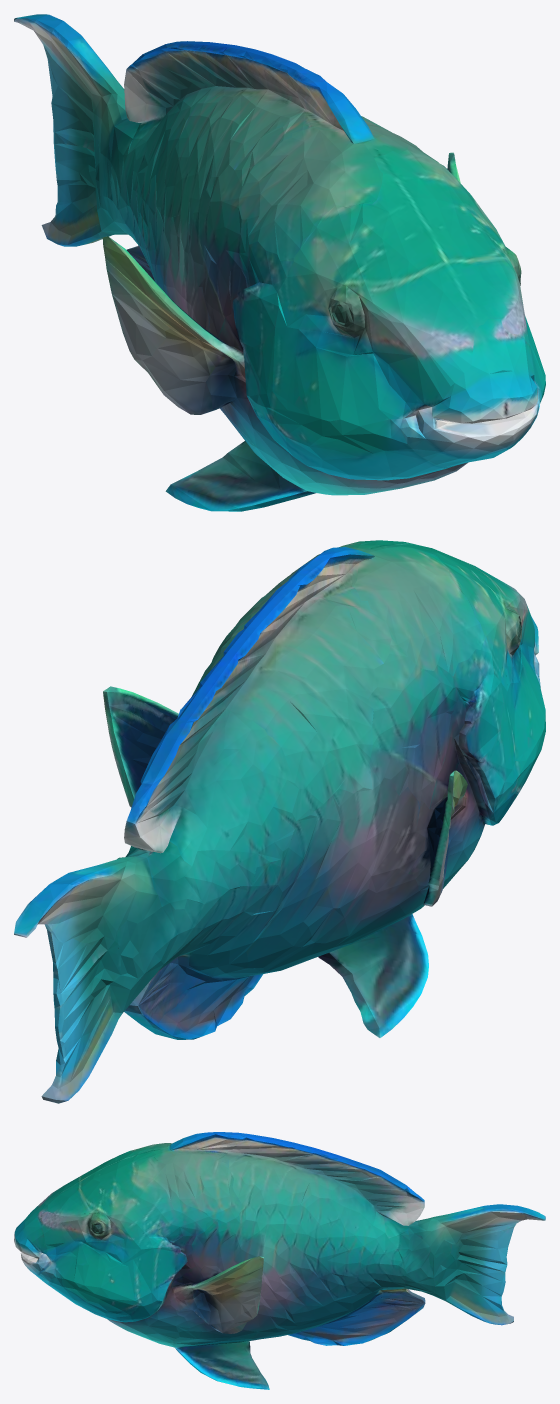
Rendered from parrotfish.glb.
The picture shows the model from 3 angles, top to bottom: view 1: azimuth 30°, elevation 25°; view 2: azimuth 150°, elevation 25°; view 3: azimuth 270°, elevation 25°; orthographic projection. The views are drawn at different scales.
Visible parts, largest first — view 1: Object_2; view 2: Object_2; view 3: Object_2.
Part boxes in pixels (x1=…): Object_2: x1=14, y1=14, x2=545, y2=511; Object_2: x1=14, y1=540, x2=545, y2=1103; Object_2: x1=14, y1=1132, x2=545, y2=1389.
Size of the model in its own units: 0.7694 by 0.8782 by 1.85.
Materials: 1 (1 with a texture image).
